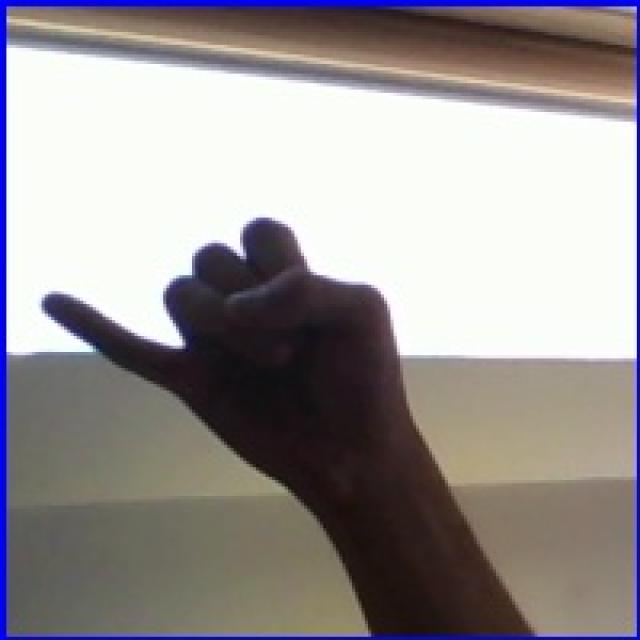J: (18, 173, 471, 470)
